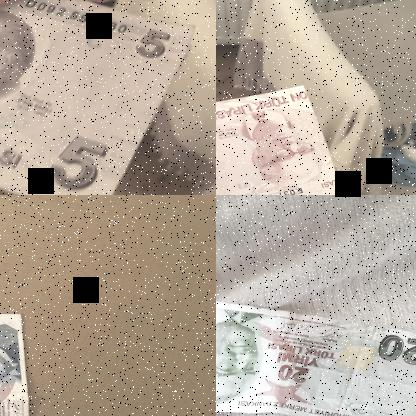5 TL: (0, 0, 197, 194)
